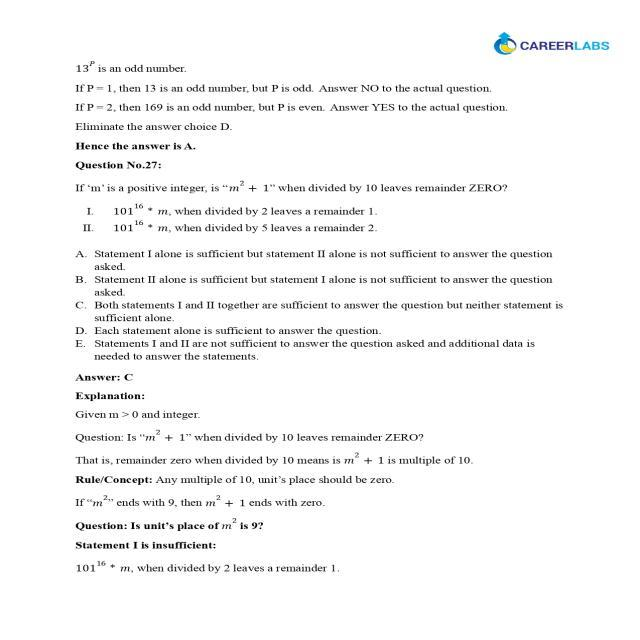Answer_Block: (58, 242, 595, 366)
Description: (58, 368, 595, 576), (58, 57, 595, 156)
Question_Answer_Block: (58, 157, 595, 367)
Question_Block: (58, 157, 595, 235)
Question_Paper_Area: (58, 57, 595, 576)
